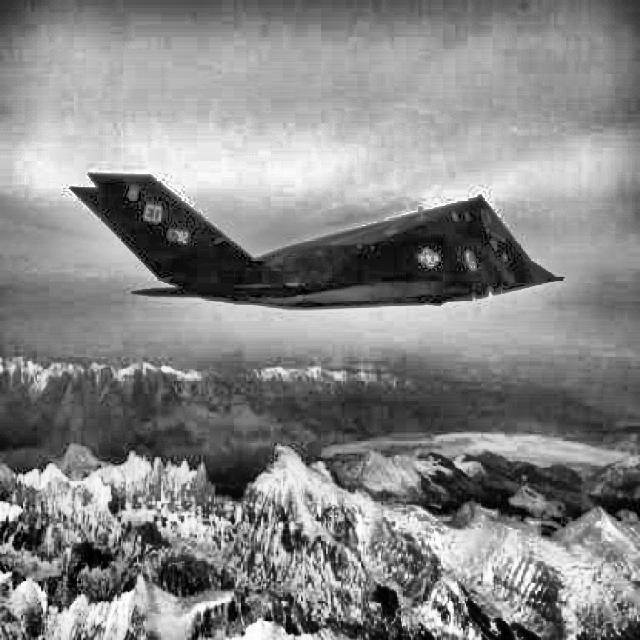F117: (68, 172, 564, 310)
